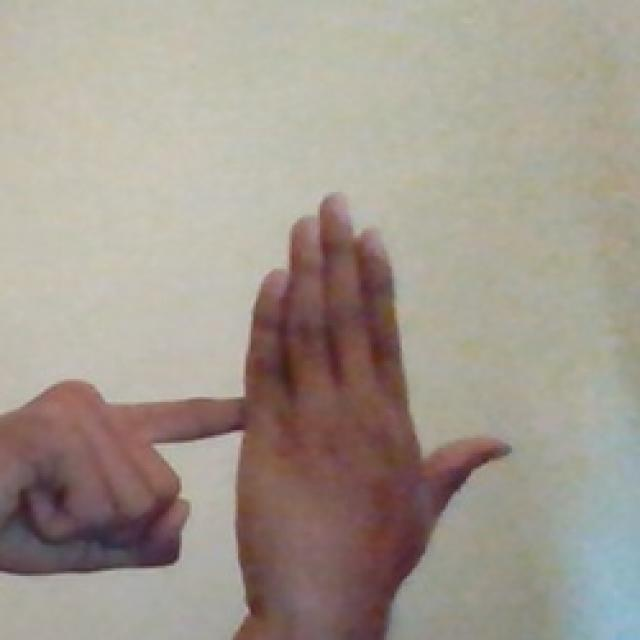Alphabet-R: (1, 183, 526, 640)
